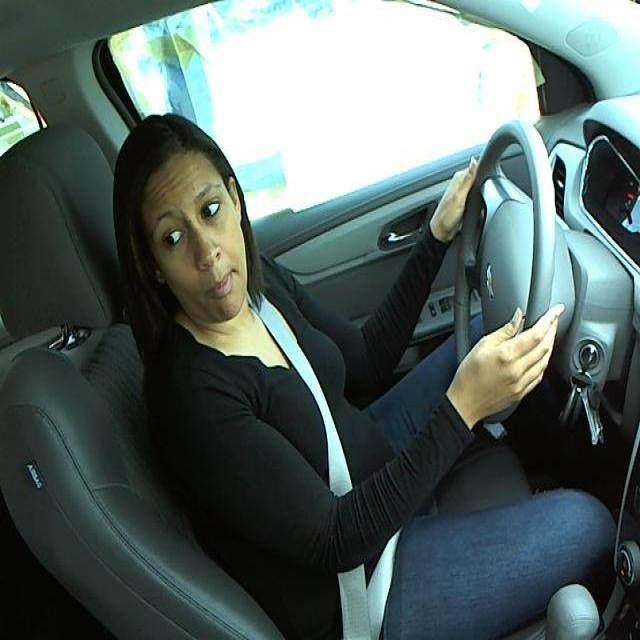seatbelt: (254, 303, 373, 489), (347, 542, 398, 638)
